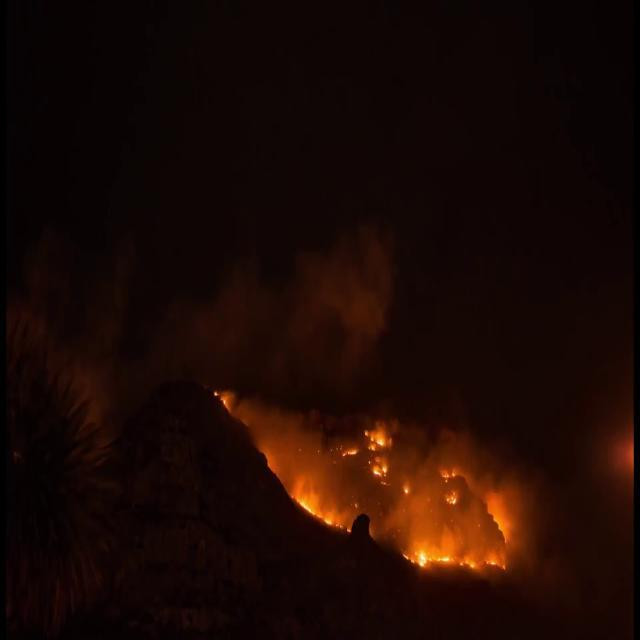Fire: (413, 542, 506, 575), (371, 421, 391, 482), (298, 492, 322, 515)
